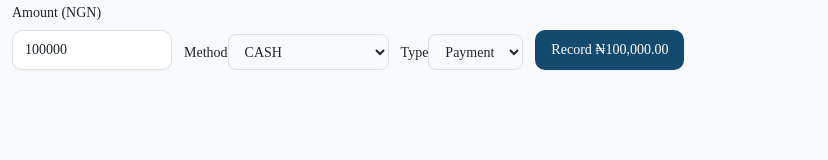
recording a payment that is refused › shows the server's own reason: Invoice is already paid
Replace the text in the field labelled "Amount (NGN)" with "100" at (92,50), box [12,30,172,70]
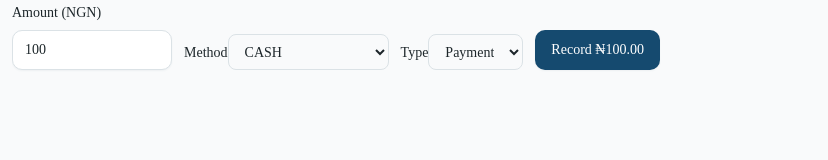
Click the button "Record ₦100.00".
click(598, 50)  # box [535,30,660,70]
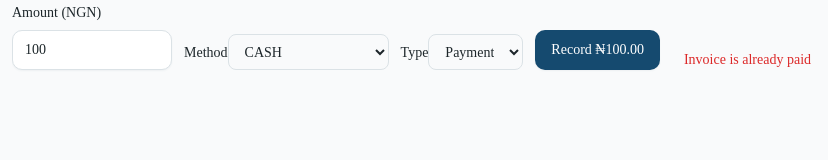
Result: the text "Invoice is already paid" is shown at [684,50,811,70]
